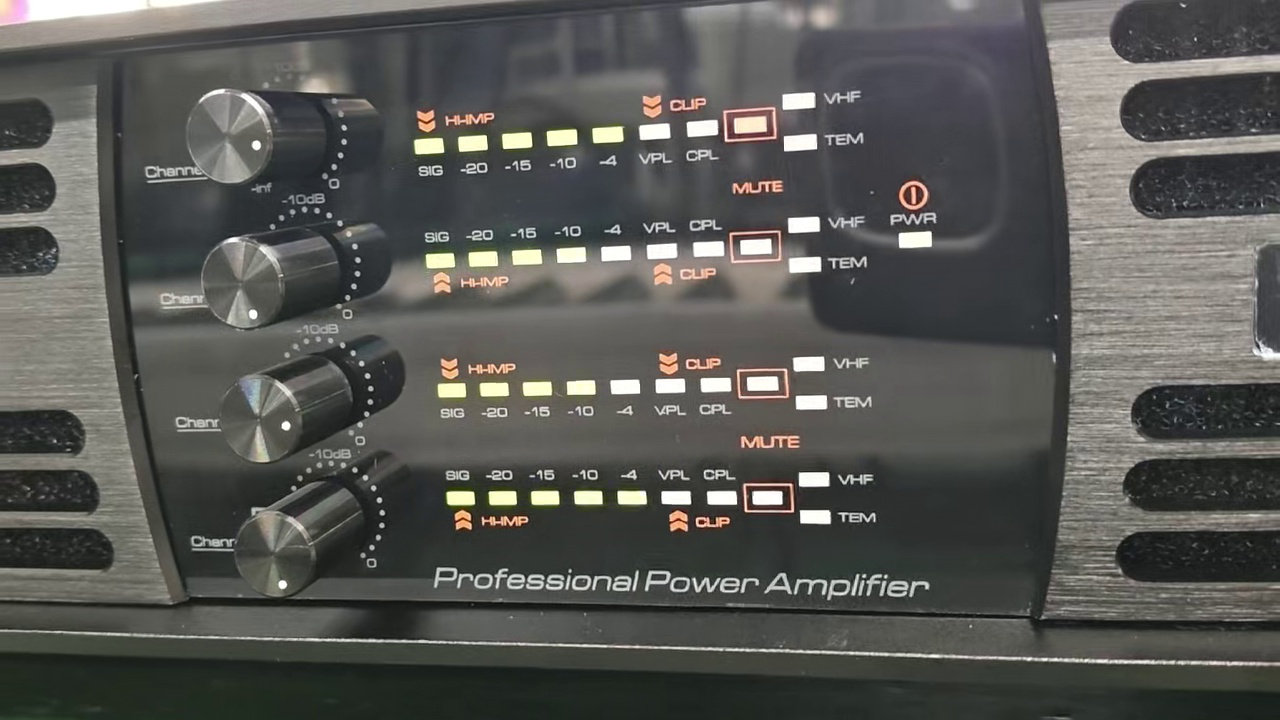FP_CPL: (680, 114, 720, 168), (701, 462, 740, 514), (685, 215, 727, 262), (693, 373, 733, 421)
FP_PWR: (886, 209, 946, 252)
FP_PWR_area: (883, 168, 946, 256)
FP_SIG_area: (415, 199, 871, 302), (405, 88, 869, 179), (439, 456, 881, 542), (432, 349, 882, 423)
FP_VPL: (640, 214, 683, 262), (655, 463, 696, 511), (637, 117, 673, 171), (652, 374, 688, 422)
